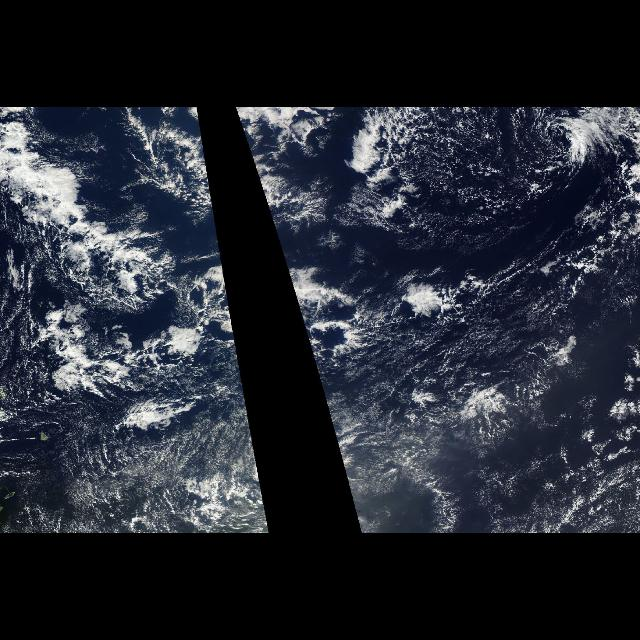Fish: (0, 110, 244, 388), (235, 110, 449, 388)
Gravel: (235, 109, 640, 414), (2, 110, 232, 316), (3, 323, 251, 431), (302, 323, 353, 431)
Sugar: (362, 376, 638, 532), (2, 418, 268, 532), (360, 323, 520, 371)
